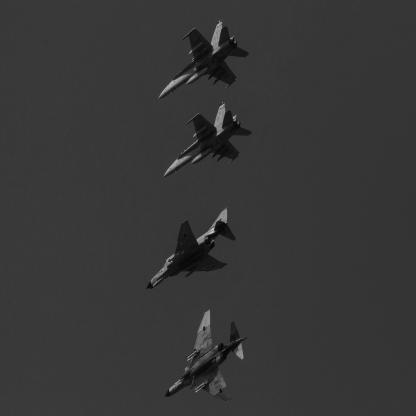F18: (159, 20, 250, 100), (164, 102, 253, 178)
F4: (163, 310, 250, 404), (144, 209, 237, 293)
